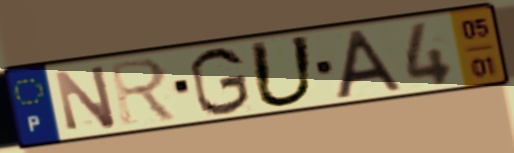4: (402, 19, 456, 88)
A: (332, 27, 406, 102)
G: (187, 45, 253, 118)
N: (51, 61, 120, 133)
R: (106, 55, 182, 128)
U: (246, 33, 320, 110)
